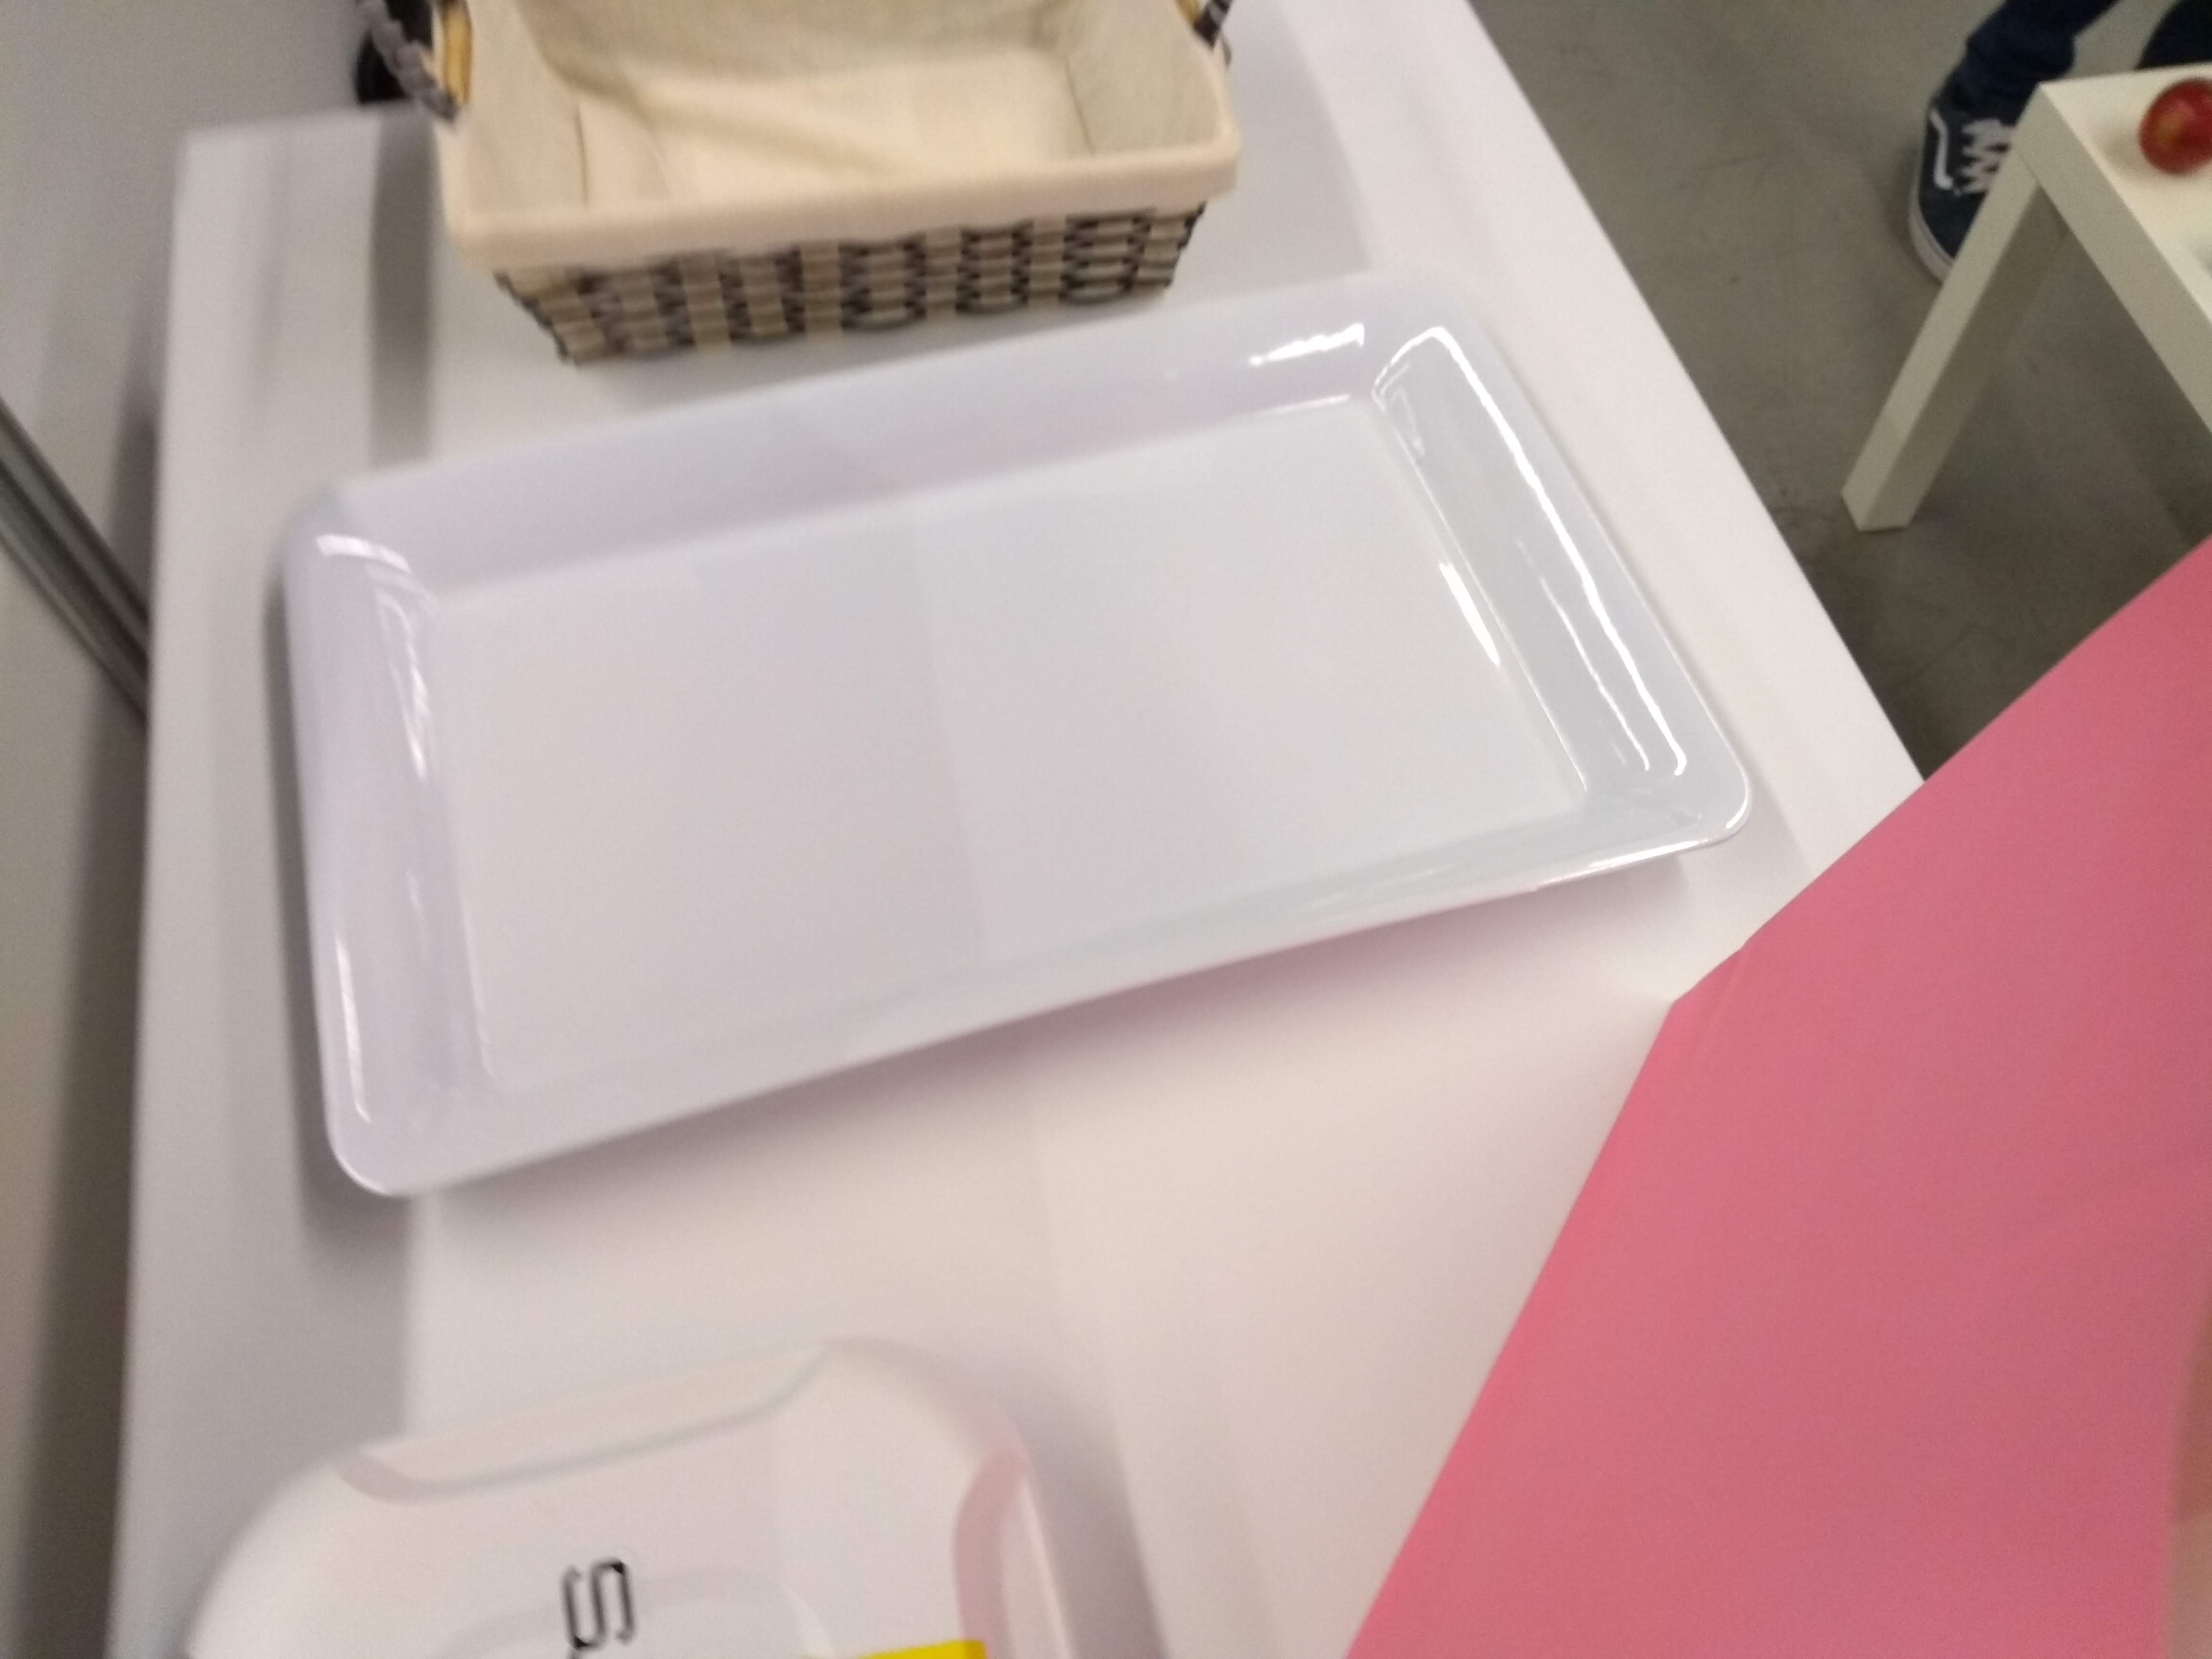basket: (352, 0, 1266, 371)
tray: (261, 272, 1754, 1211)
